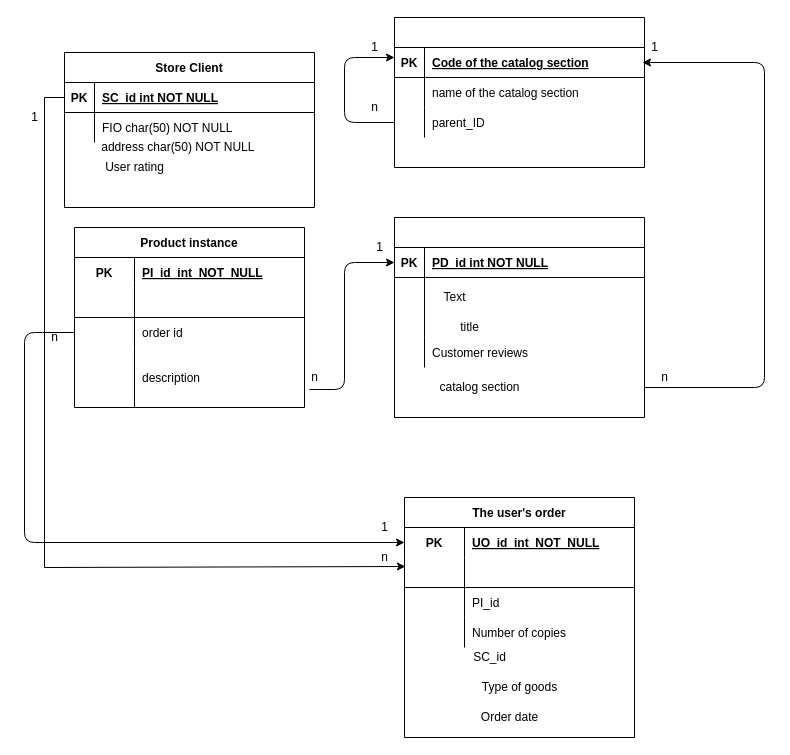
The diagram is 790 pixels wide and 755 high, and some of its shapes have lost their labels. The box of each missing label's shape, as (x1, y1, x2, y2) in pixels:
Product catalog in the store: (394, 16, 644, 168)
Product description: (394, 216, 644, 418)
